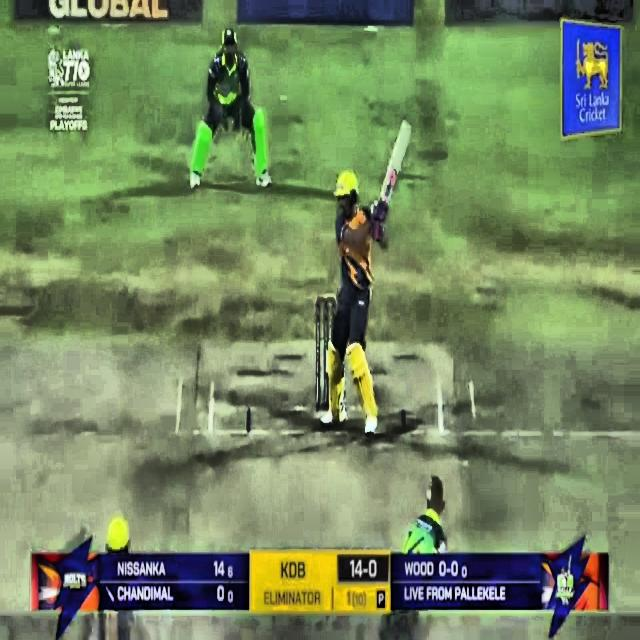Left-stump: (316, 306, 320, 408)
Middle-stump: (325, 378, 328, 407)
